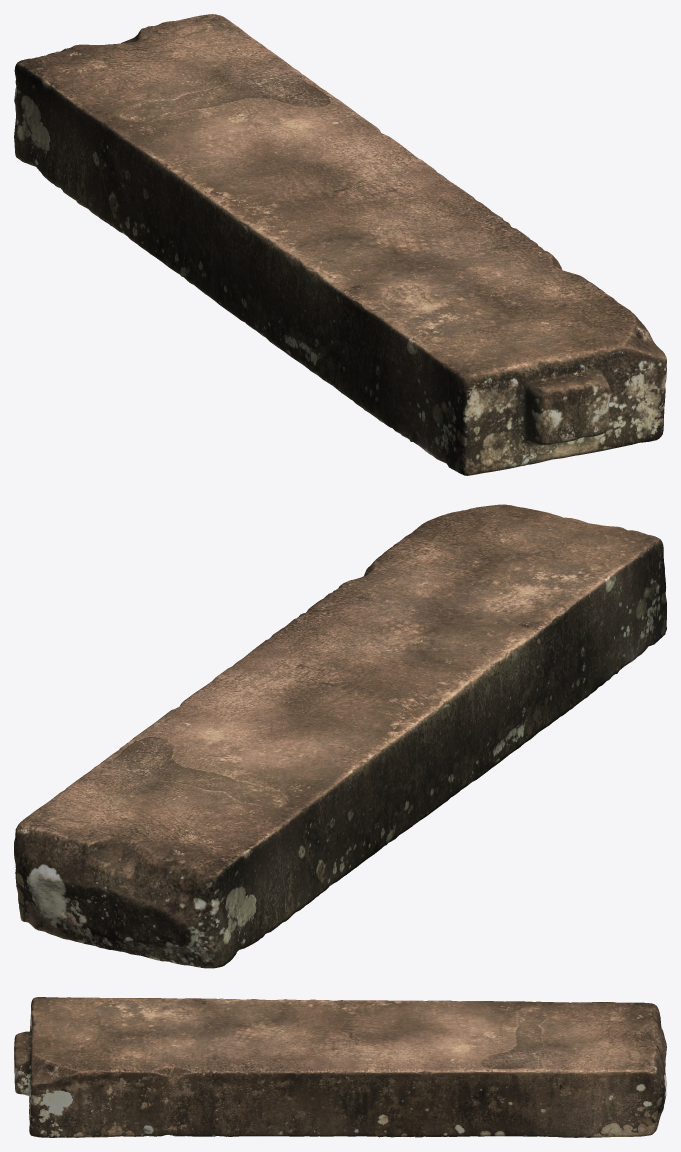
The model's file is 48_MysonSanctuaryD_LanhTo_final.glb.
3 views of the same model, one above another, from view 1: azimuth 30°, elevation 25°; view 2: azimuth 150°, elevation 25°; view 3: azimuth 270°, elevation 25° (orthographic). The views are drawn at different scales.
Size of the model in its own units: 0.4733 by 0.2416 by 1.83.
1 material, 1 textured.
